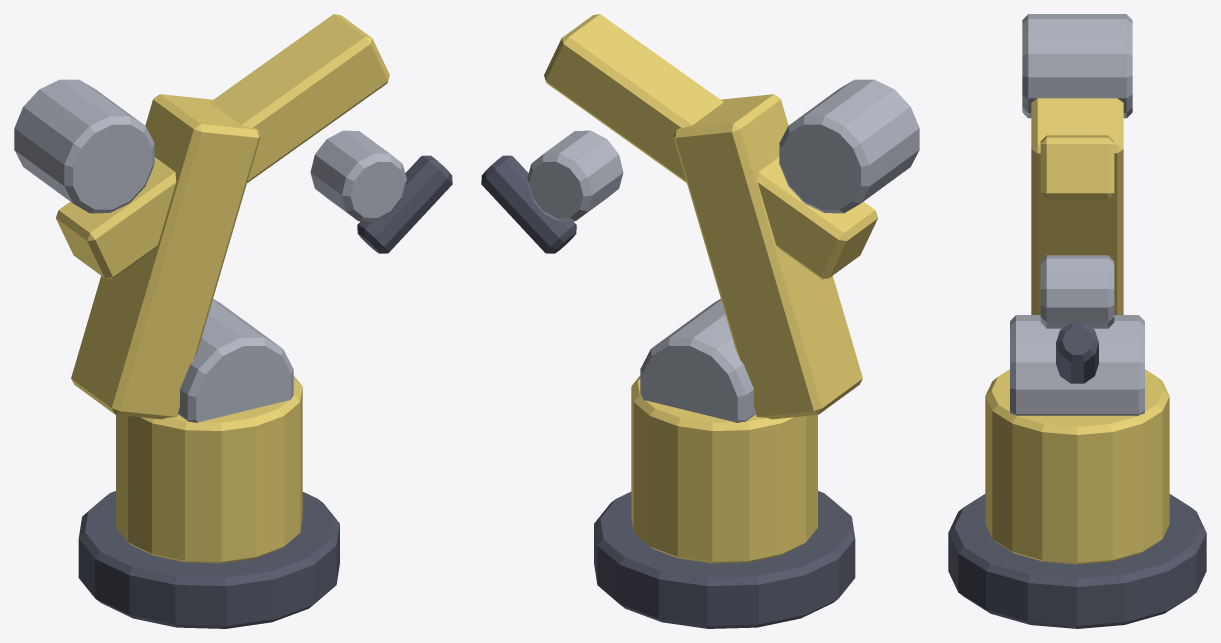
The model's file is robot.glb.
3 renders of one model, left to right at view 1: azimuth 30°, elevation 25°; view 2: azimuth 150°, elevation 25°; view 3: azimuth 270°, elevation 25°, orthographic. The views are drawn at different scales.
Visible parts, largest first — view 1: Robot; view 2: Robot; view 3: Robot.
Part boxes in pixels (left/top/right/bottom): Robot: left=14, top=14, right=452, bottom=628; Robot: left=481, top=14, right=919, bottom=628; Robot: left=948, top=14, right=1206, bottom=628.
Bounding box in the file's own units: 1.51 × 1.82 × 0.84.
